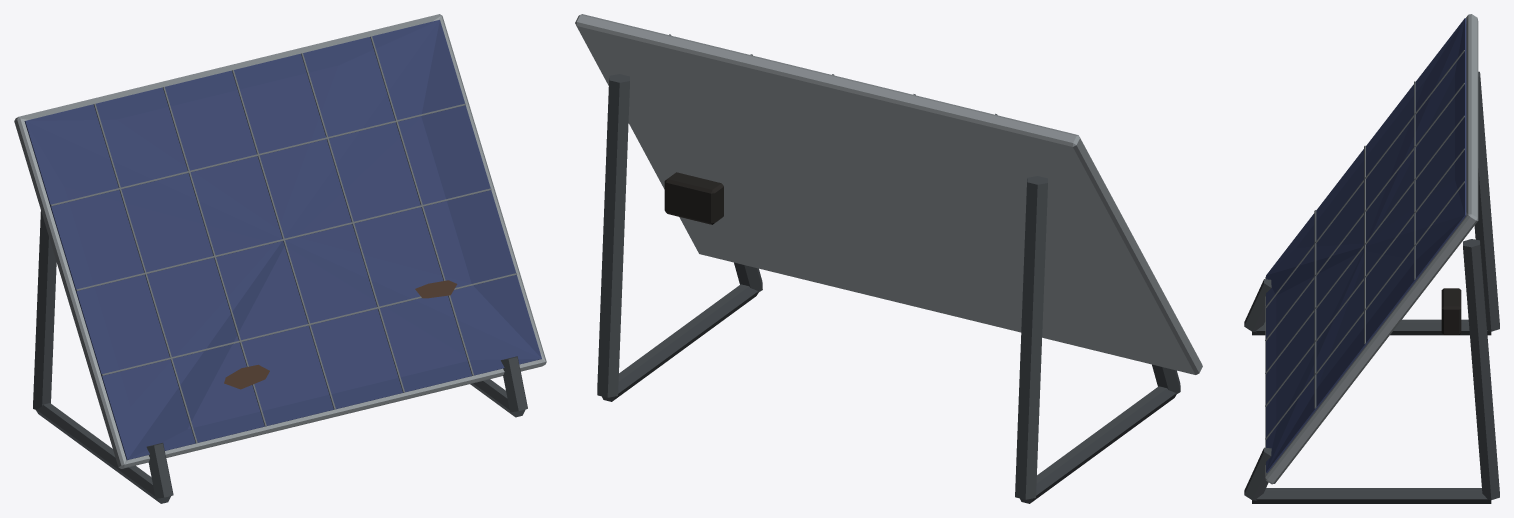
Rendered from solar_panel_bolshaya_300_vt_idle.glb.
3 views of the same model, side by side, from view 1: azimuth 30°, elevation 25°; view 2: azimuth 150°, elevation 25°; view 3: azimuth 270°, elevation 25° (orthographic). The views are drawn at different scales.
Parts seen in each view (by area): view 1: solar_panel_bolshaya_300_vt_idle; view 2: solar_panel_bolshaya_300_vt_idle; view 3: solar_panel_bolshaya_300_vt_idle.
Boxes of the visible parts, x1,y1,x2,y2 form: solar_panel_bolshaya_300_vt_idle: (14,14,546,503); solar_panel_bolshaya_300_vt_idle: (575,14,1202,503); solar_panel_bolshaya_300_vt_idle: (1244,14,1499,503).
Bounding box in the file's own units: 1.2 × 0.8411 × 0.6746.
1 material, 1 textured.
